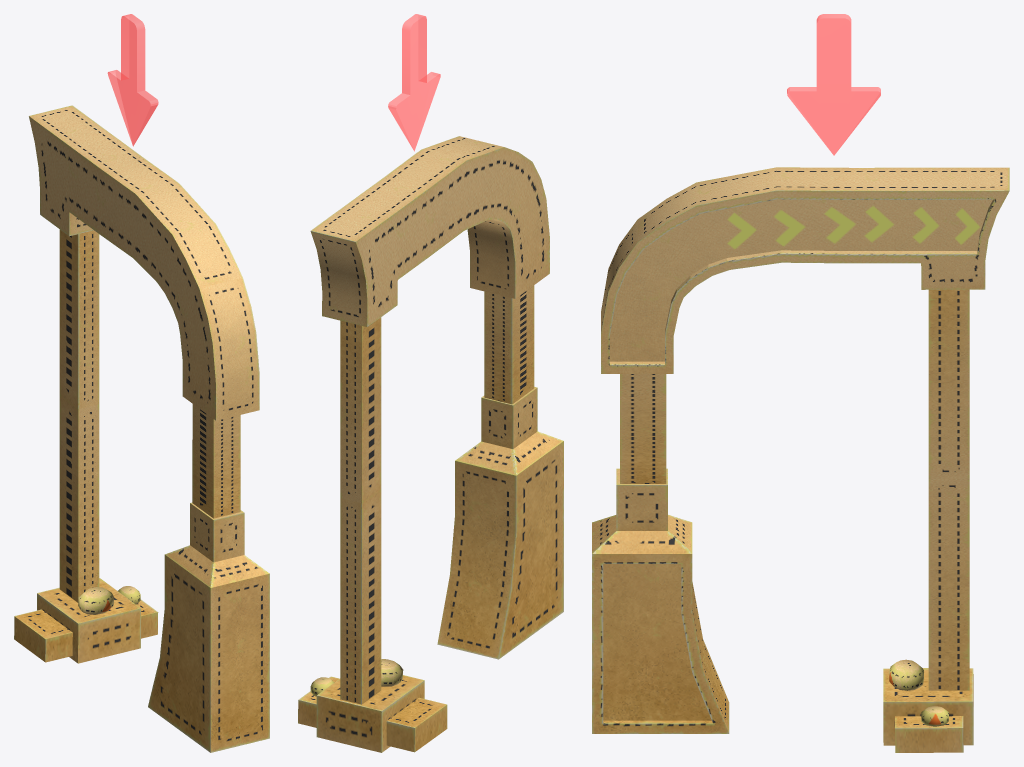
File: Trick_TheGate03.fbx
3 views of the same model, side by side, from view 1: azimuth 30°, elevation 25°; view 2: azimuth 150°, elevation 25°; view 3: azimuth 270°, elevation 25° (orthographic). The views are drawn at different scales.
Parts seen in each view (by area): view 1: Trick_TheGate03, Trick_TheGate03_A; view 2: Trick_TheGate03, Trick_TheGate03_A; view 3: Trick_TheGate03, Trick_TheGate03_A.
Part boxes in pixels (x1,y1,x2,y2): Trick_TheGate03: [14, 105, 269, 752]; Trick_TheGate03_A: [107, 14, 158, 146]; Trick_TheGate03: [298, 136, 563, 752]; Trick_TheGate03_A: [388, 14, 440, 151]; Trick_TheGate03: [592, 167, 1009, 752]; Trick_TheGate03_A: [787, 14, 880, 155].
Size of the model in its own units: 36.95 by 205 by 109.
2 materials, 1 textured.
